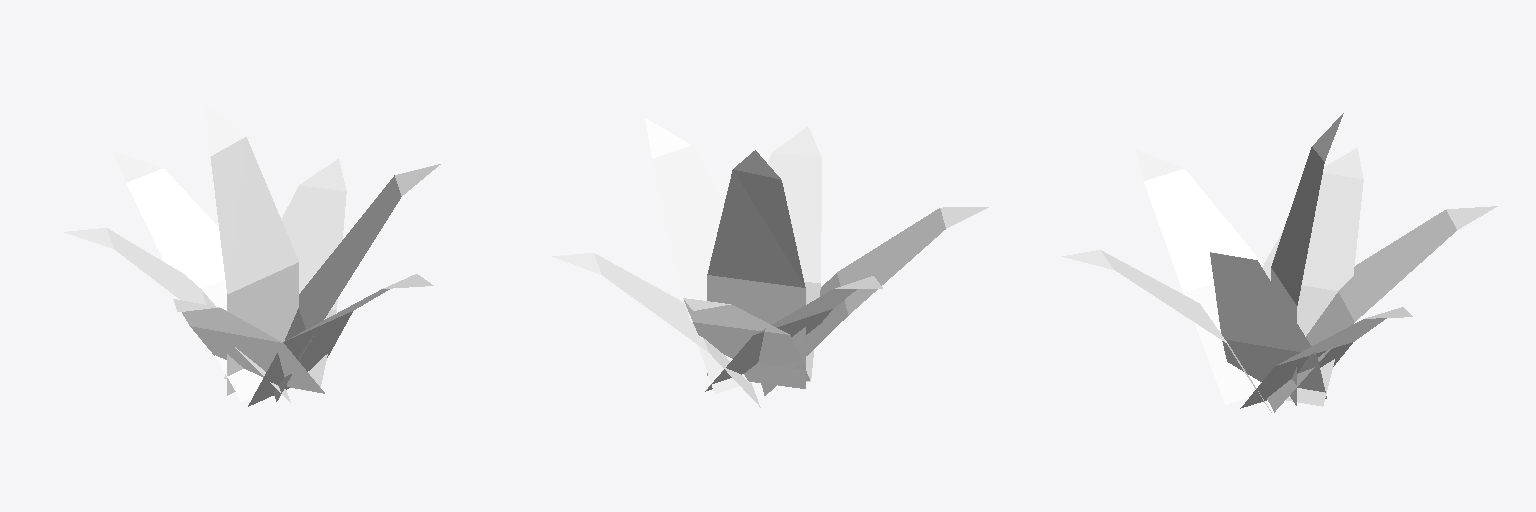
File: tris.obj
The picture shows the model from 3 angles: view 1: azimuth 30°, elevation 25°; view 2: azimuth 150°, elevation 25°; view 3: azimuth 270°, elevation 25°; orthographic projection.
Parts seen in each view (by area): view 1: fern; view 2: fern; view 3: fern.
Part boxes in pixels (left/top/right/bottom): fern: left=64, top=103, right=440, bottom=406; fern: left=551, top=118, right=988, bottom=407; fern: left=1062, top=113, right=1497, bottom=412.
Bounding box in the file's own units: 87.93 × 73.18 × 108.